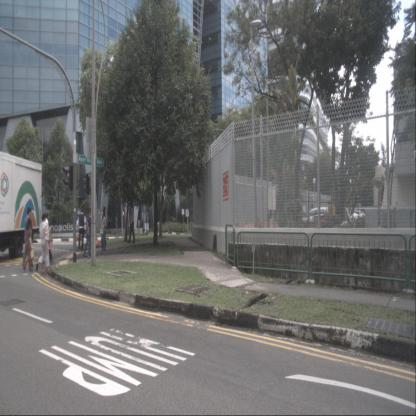human-pedestrian-adult: (36, 214, 51, 272), (22, 207, 36, 269), (40, 213, 54, 264), (22, 219, 34, 272), (83, 212, 95, 256), (87, 211, 98, 258), (78, 209, 87, 251), (99, 210, 107, 255), (127, 202, 135, 243), (100, 206, 107, 247), (114, 213, 118, 233), (141, 217, 144, 228), (138, 218, 140, 233), (145, 216, 147, 227)
vehicle-car: (300, 207, 335, 227)
vehicle-truck: (0, 151, 43, 259)
